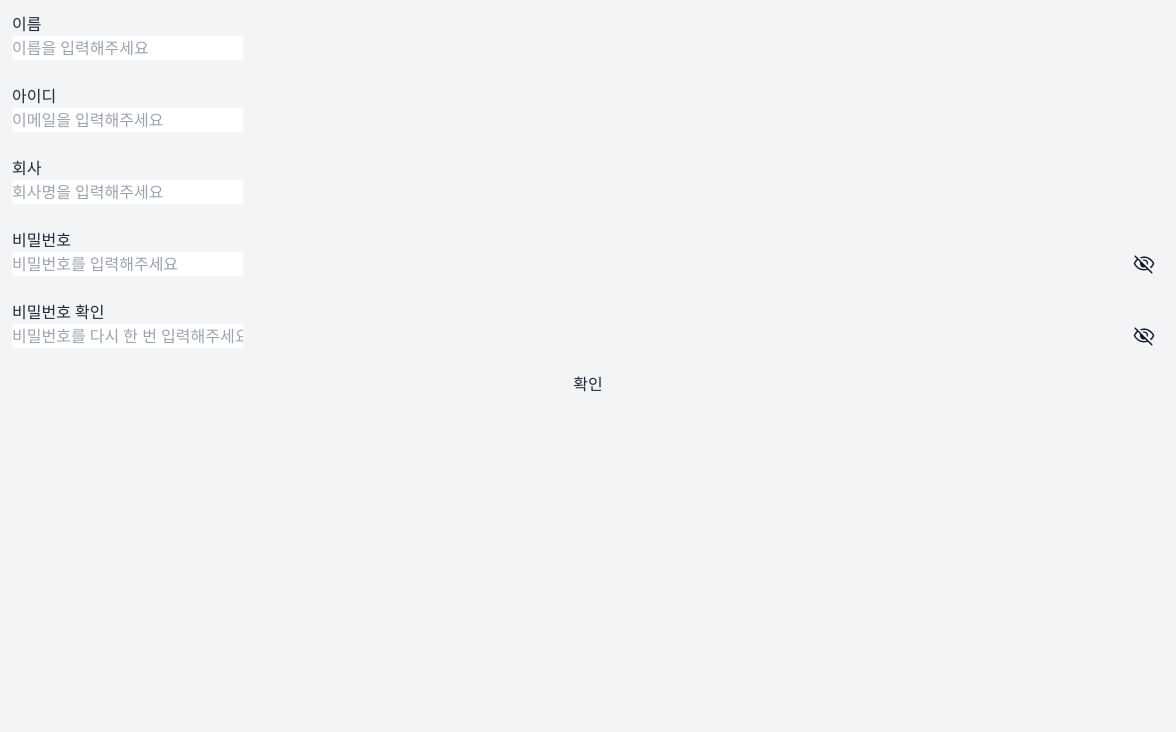
it: 회원가입 폼 › 유효성 검사 실패 › 회사 입력 테스트
Type "화" into the field with placeholder "회사명을 입력해주세요" at (128, 192), box [12,180,243,204]
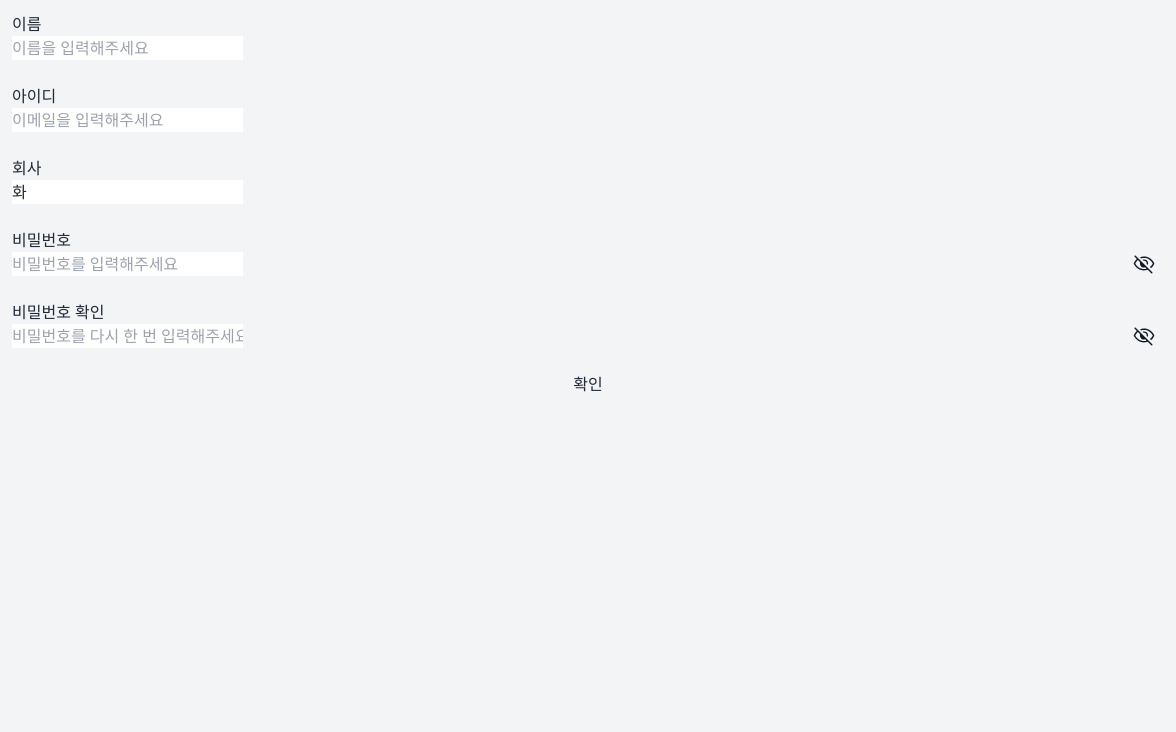
Submit the form from the button "확인", box [12,372,1164,396]
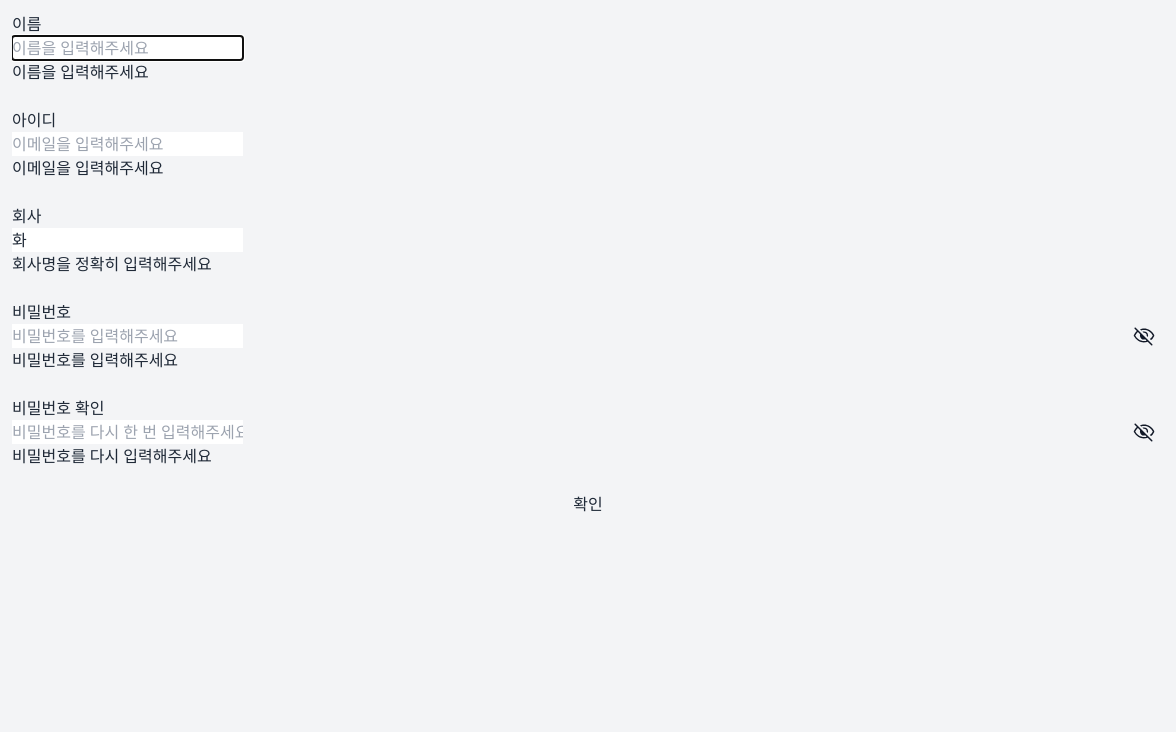
Now the text "회사명을 정확히 입력해주세요" is shown, box [12,253,212,275]
